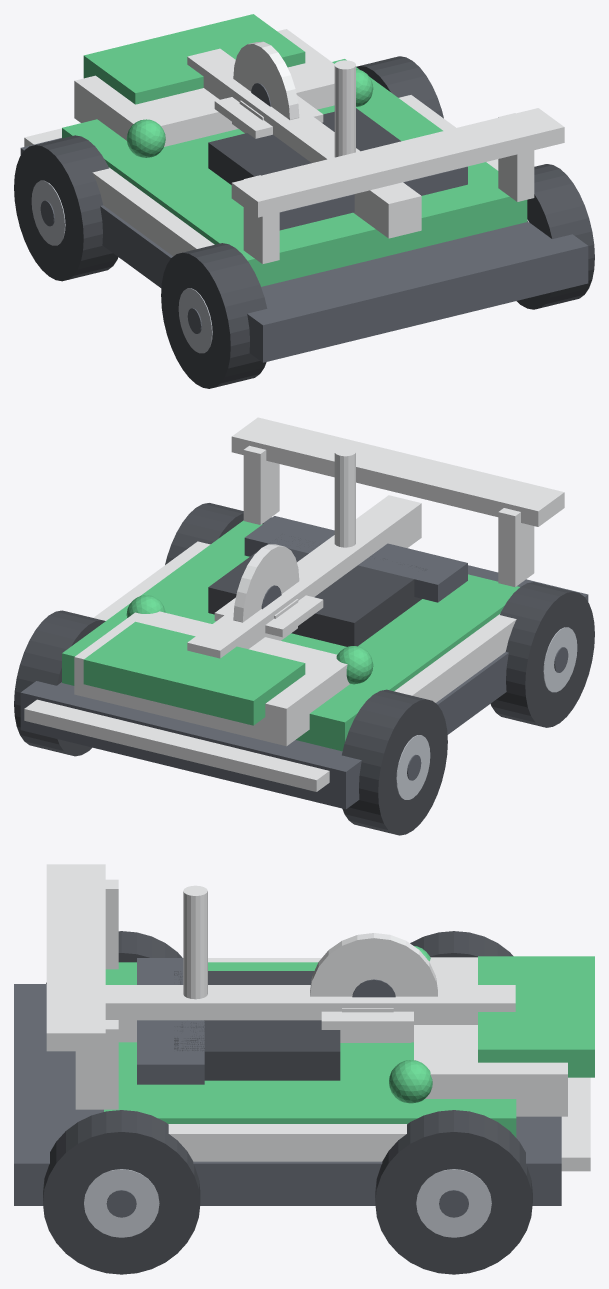
The model's file is balanced.glb.
3 renders of one model, top to bottom at view 1: azimuth 30°, elevation 25°; view 2: azimuth 150°, elevation 25°; view 3: azimuth 270°, elevation 25°, orthographic. The views are drawn at different scales.
Visible parts, largest first — view 1: part_0, part_1, part_11, part_19, part_16, part_3, part_2, part_31, part_25, part_4, part_9, part_8 (+11 smaller); view 2: part_1, part_0, part_3, part_11, part_16, part_2, part_19, part_31, part_28, part_4, part_5, part_22 (+12 smaller); view 3: part_0, part_1, part_25, part_22, part_31, part_3, part_11, part_4, part_2, part_10, part_8, part_5 (+14 smaller).
Part boxes in pixels (bbox=[...]): part_0: bbox=[20, 138, 588, 362]; part_1: bbox=[62, 59, 527, 286]; part_11: bbox=[231, 108, 564, 217]; part_19: bbox=[161, 243, 267, 388]; part_16: bbox=[14, 135, 118, 281]; part_3: bbox=[83, 14, 305, 104]; part_2: bbox=[74, 29, 334, 146]; part_31: bbox=[187, 48, 421, 238]; part_25: bbox=[516, 164, 594, 309]; part_4: bbox=[208, 108, 400, 184]; part_9: bbox=[92, 167, 214, 256]; part_8: bbox=[233, 41, 299, 119]; part_1: bbox=[62, 520, 519, 751]; part_0: bbox=[20, 517, 588, 809]; part_3: bbox=[83, 621, 305, 725]; part_11: bbox=[231, 417, 564, 526]; part_16: bbox=[342, 689, 447, 835]; part_2: bbox=[74, 611, 349, 746]; part_19: bbox=[490, 582, 594, 727]; part_31: bbox=[187, 495, 421, 658]; part_28: bbox=[24, 699, 329, 791]; part_4: bbox=[208, 536, 427, 646]; part_5: bbox=[244, 516, 467, 602]; part_22: bbox=[14, 610, 105, 756]; part_0: bbox=[14, 984, 561, 1205]; part_1: bbox=[104, 962, 516, 1137]; part_25: bbox=[43, 1110, 200, 1274]; part_22: bbox=[375, 1110, 532, 1274]; part_31: bbox=[105, 985, 515, 1042]; part_3: bbox=[478, 956, 594, 1077]; part_11: bbox=[46, 864, 105, 1051]; part_4: bbox=[174, 971, 340, 1080]; part_2: bbox=[414, 957, 567, 1116]; part_10: bbox=[168, 1124, 406, 1161]; part_8: bbox=[310, 933, 437, 1042]; part_5: bbox=[137, 958, 204, 1084].
Bounding box in the file's own units: 3.89 × 2.54 × 4.72.
